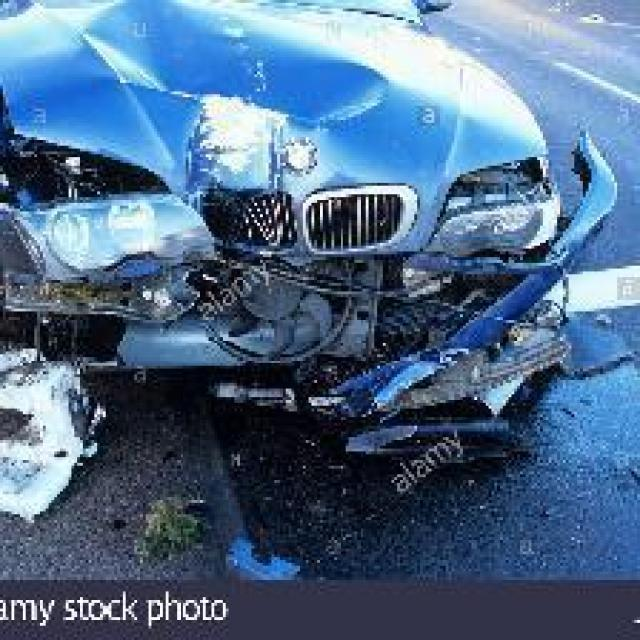damaged: (0, 6, 620, 474)
